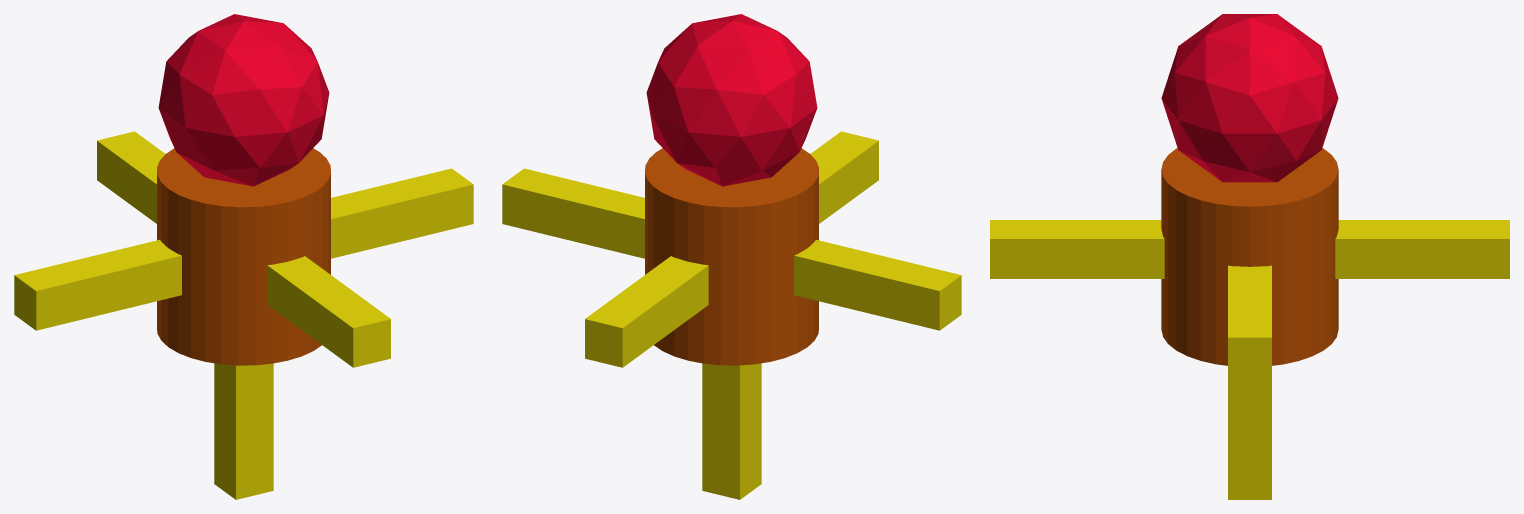
The model's file is AttackDummy.fbx.
3 views of the same model, side by side, from view 1: azimuth 30°, elevation 25°; view 2: azimuth 150°, elevation 25°; view 3: azimuth 270°, elevation 25° (orthographic).
Visible parts, largest first — view 1: Cylinder, Icosphere, Cube, Cube.002, Cube.001; view 2: Cylinder, Icosphere, Cube, Cube.002, Cube.001; view 3: Cylinder, Icosphere, Cube.002, Cube.001, Cube.
Part boxes in pixels (<box>): Cylinder: <box>157,148,330,365</box>; Icosphere: <box>158,14,329,186</box>; Cube: <box>14,168,473,330</box>; Cube.002: <box>97,131,390,367</box>; Cube.001: <box>214,363,273,499</box>; Cylinder: <box>645,148,818,365</box>; Icosphere: <box>646,14,817,186</box>; Cube: <box>502,168,961,330</box>; Cube.002: <box>585,131,878,367</box>; Cube.001: <box>702,363,761,499</box>; Cylinder: <box>1161,148,1338,365</box>; Icosphere: <box>1161,14,1338,182</box>; Cube.002: <box>990,220,1509,278</box>; Cube.001: <box>1228,378,1271,499</box>; Cube: <box>1228,265,1271,377</box>.
Size of the model in its own units: 578 by 589 by 587.
